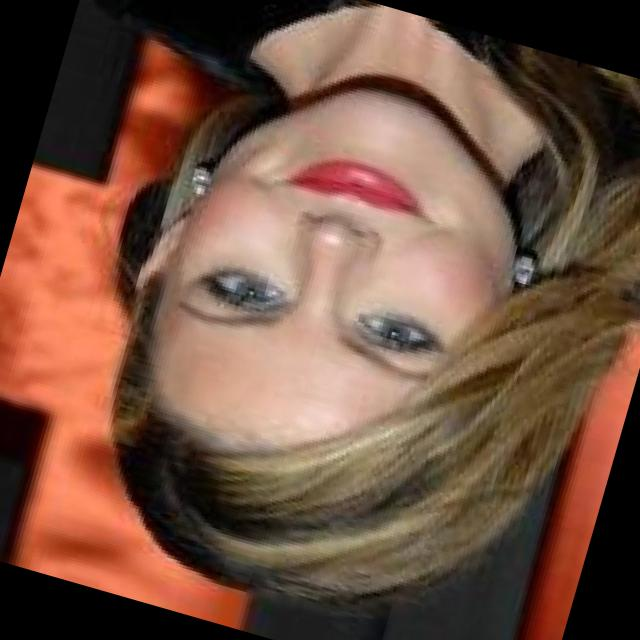bareface: (105, 50, 541, 588)
